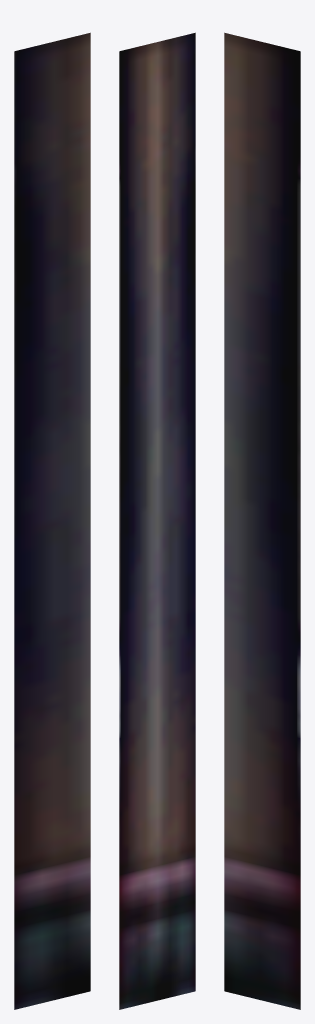
3 renders of one model, left to right at view 1: azimuth 90°, elevation 25°; view 2: azimuth 210°, elevation 25°; view 3: azimuth 270°, elevation 25°, orthographic.
Visible parts, largest first — view 1: Cylinder01; view 2: Cylinder01; view 3: Cylinder01.
Boxes of the visible parts, left/top/right/bottom form: Cylinder01: left=14, top=32, right=90, bottom=1009; Cylinder01: left=119, top=32, right=195, bottom=1009; Cylinder01: left=224, top=32, right=300, bottom=1009.
Size of the model in its own units: 25.09 by 300 by 21.73.
1 material, 1 textured.
